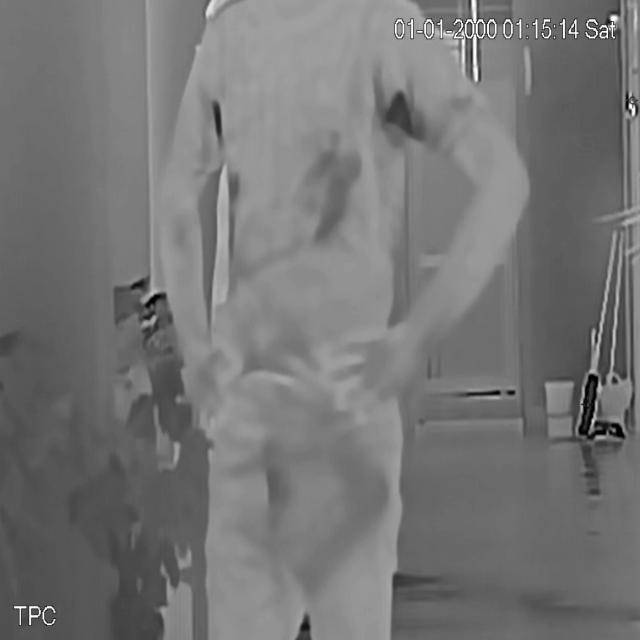Weapon: (289, 438, 395, 597)
